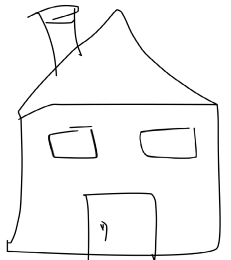big_house: (0, 1, 230, 260)
chimney: (25, 0, 86, 82)
door: (74, 185, 165, 260)
open_window: (134, 122, 203, 167), (43, 119, 105, 168)
roof: (1, 0, 219, 118)
wall: (0, 96, 226, 260)
